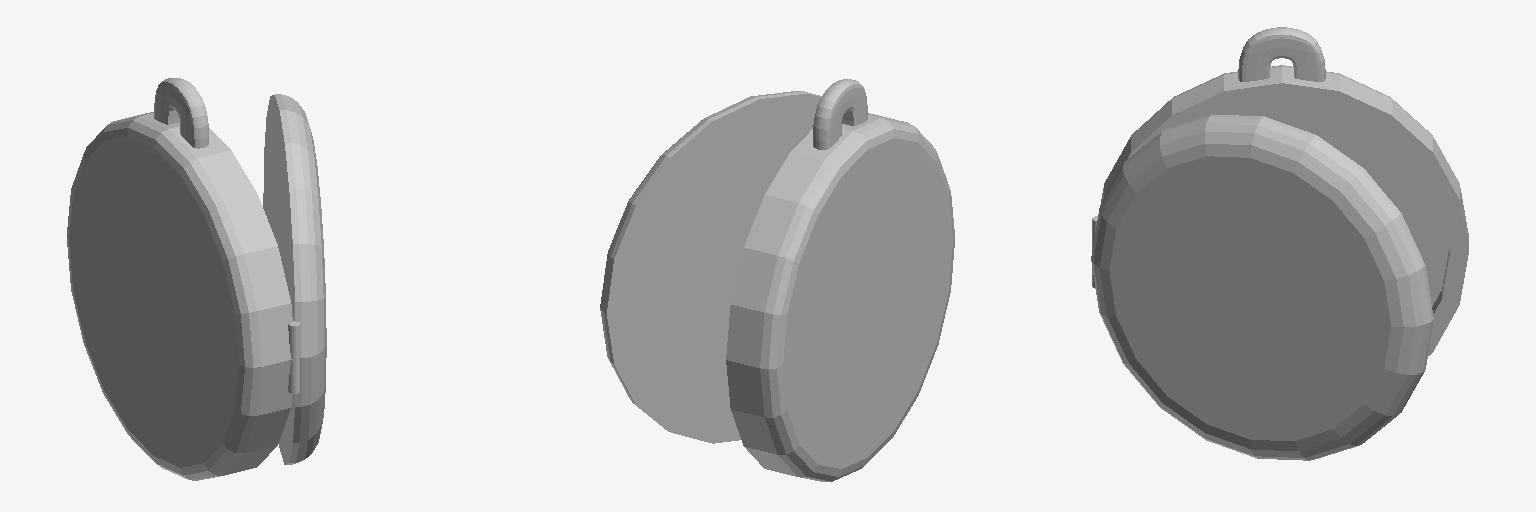
Rendered from Medallion.obj.
3 views of the same model, side by side, from view 1: azimuth 30°, elevation 25°; view 2: azimuth 150°, elevation 25°; view 3: azimuth 270°, elevation 25° (orthographic).
Parts seen in each view (by area): view 1: pCylinder9; view 2: pCylinder9; view 3: pCylinder9.
Boxes of the visible parts, x1,y1,x2,y2 form: pCylinder9: [67, 78, 326, 480]; pCylinder9: [600, 79, 954, 481]; pCylinder9: [1091, 27, 1468, 460].
Size of the model in its own units: 1.25 by 2.26 by 2.02.